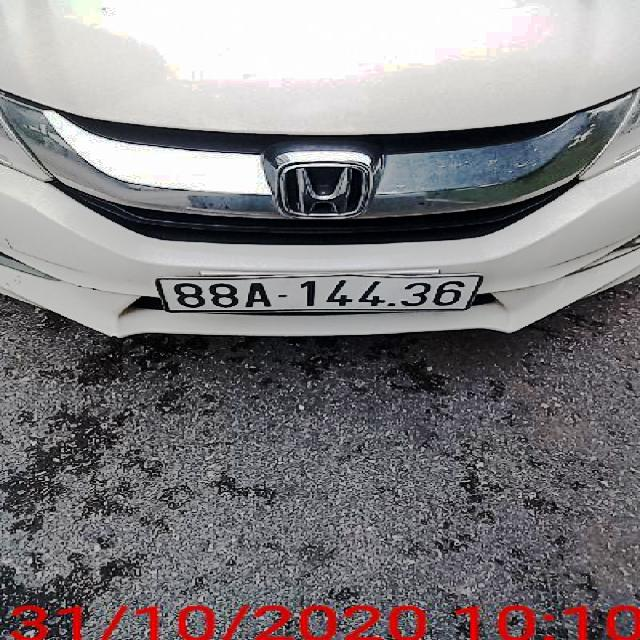license_plate: (161, 274, 487, 310)
